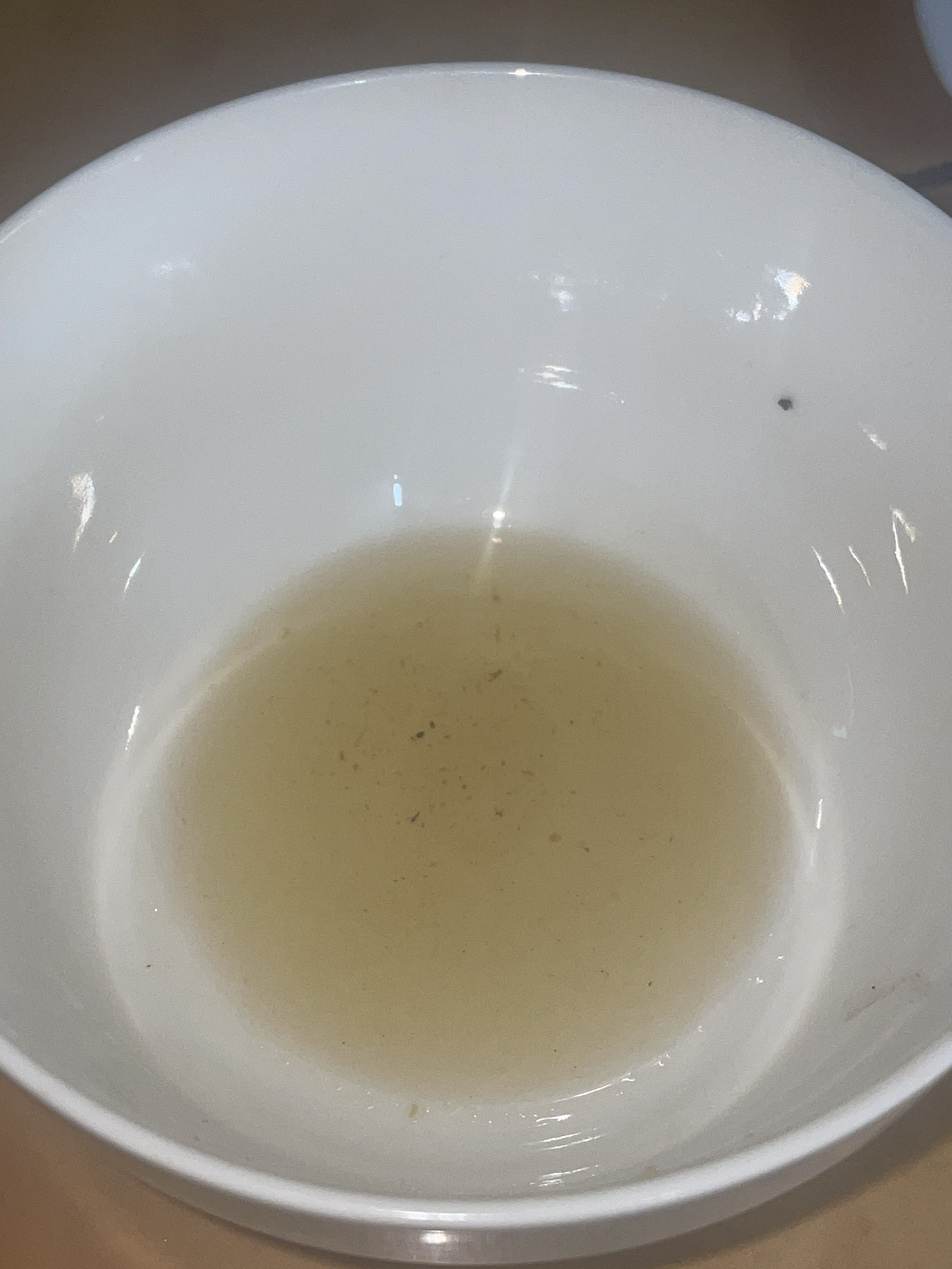reusable: (170, 529, 800, 1095)
